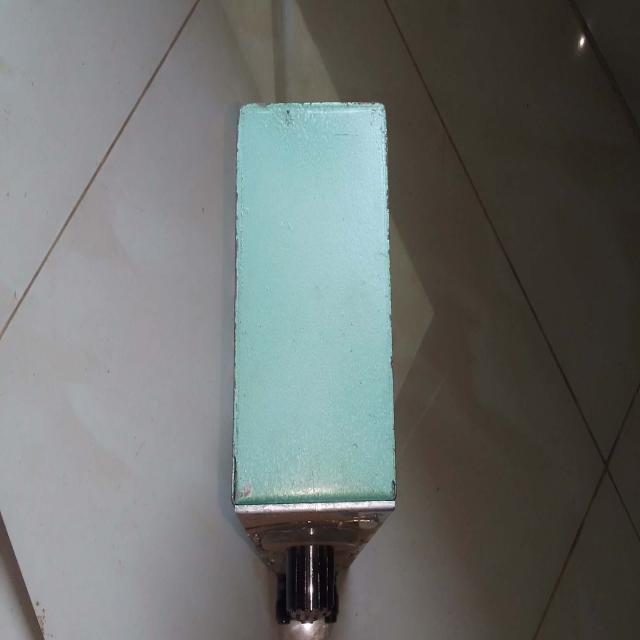Decade Resistance Box: (220, 85, 406, 640)
